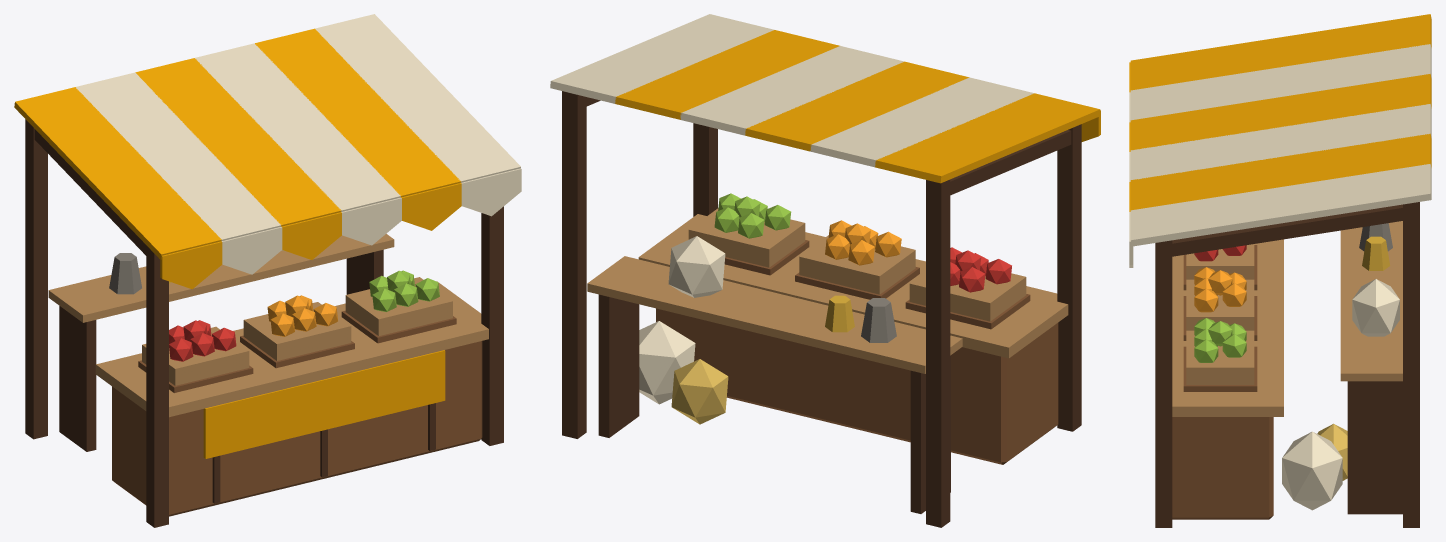
File: Marktstand_Gelb.fbx
3 views of the same model, side by side, from view 1: azimuth 30°, elevation 25°; view 2: azimuth 150°, elevation 25°; view 3: azimuth 270°, elevation 25° (orthographic). The views are drawn at different scales.
Visible parts, largest first — view 1: Marktstand_Gelb; view 2: Marktstand_Gelb; view 3: Marktstand_Gelb.
Boxes of the visible parts, box(x1,y1,x2,y2) form: Marktstand_Gelb: box(14, 14, 521, 527); Marktstand_Gelb: box(550, 14, 1100, 527); Marktstand_Gelb: box(1129, 14, 1431, 527).
Bounding box in the file's own units: 3.01 × 2.63 × 2.14.
